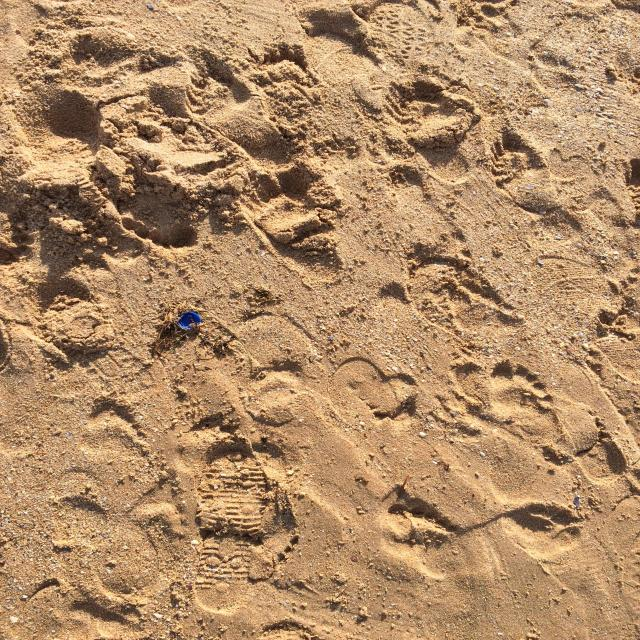Plastic bottle cap: (178, 312, 201, 329)
